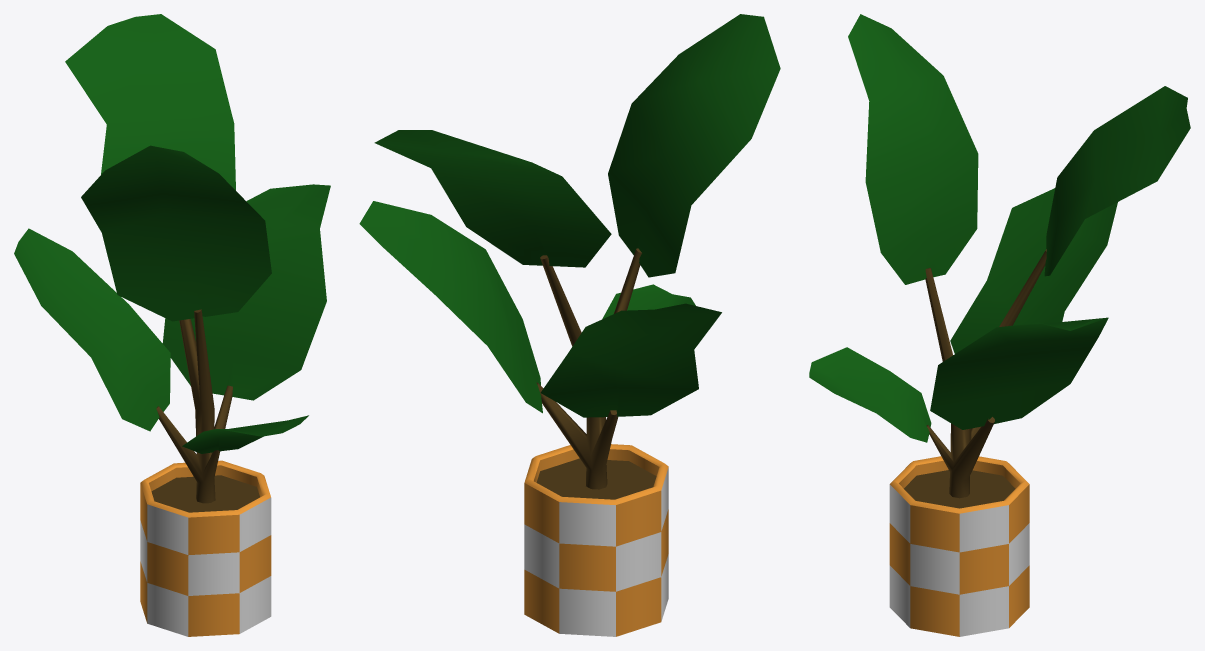
Rendered from SM_Plante.fbx.
3 renders of one model, left to right at view 1: azimuth 30°, elevation 25°; view 2: azimuth 150°, elevation 25°; view 3: azimuth 270°, elevation 25°, orthographic. The views are drawn at different scales.
Parts seen in each view (by area): view 1: Plante; view 2: Plante; view 3: Plante.
Boxes of the visible parts, x1,y1,x2,y2 form: Plante: [14, 14, 330, 636]; Plante: [359, 14, 780, 636]; Plante: [809, 14, 1190, 636].
Bounding box in the file's own units: 655 × 1084 × 692.
